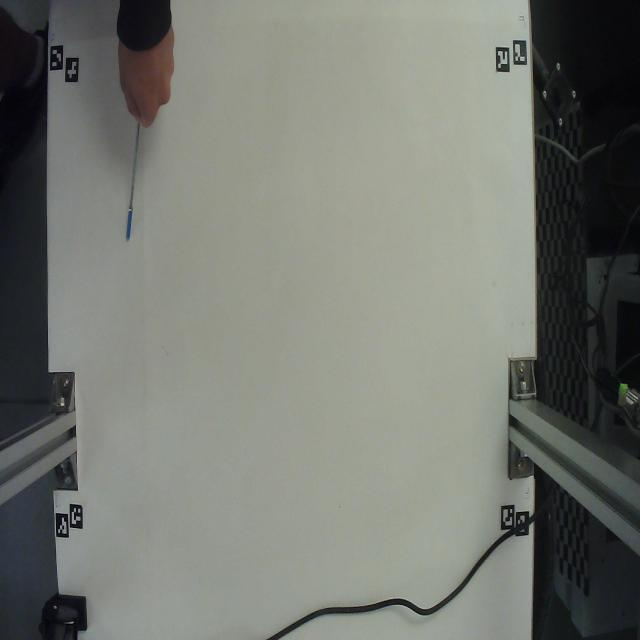Pres: (113, 110, 163, 308)
